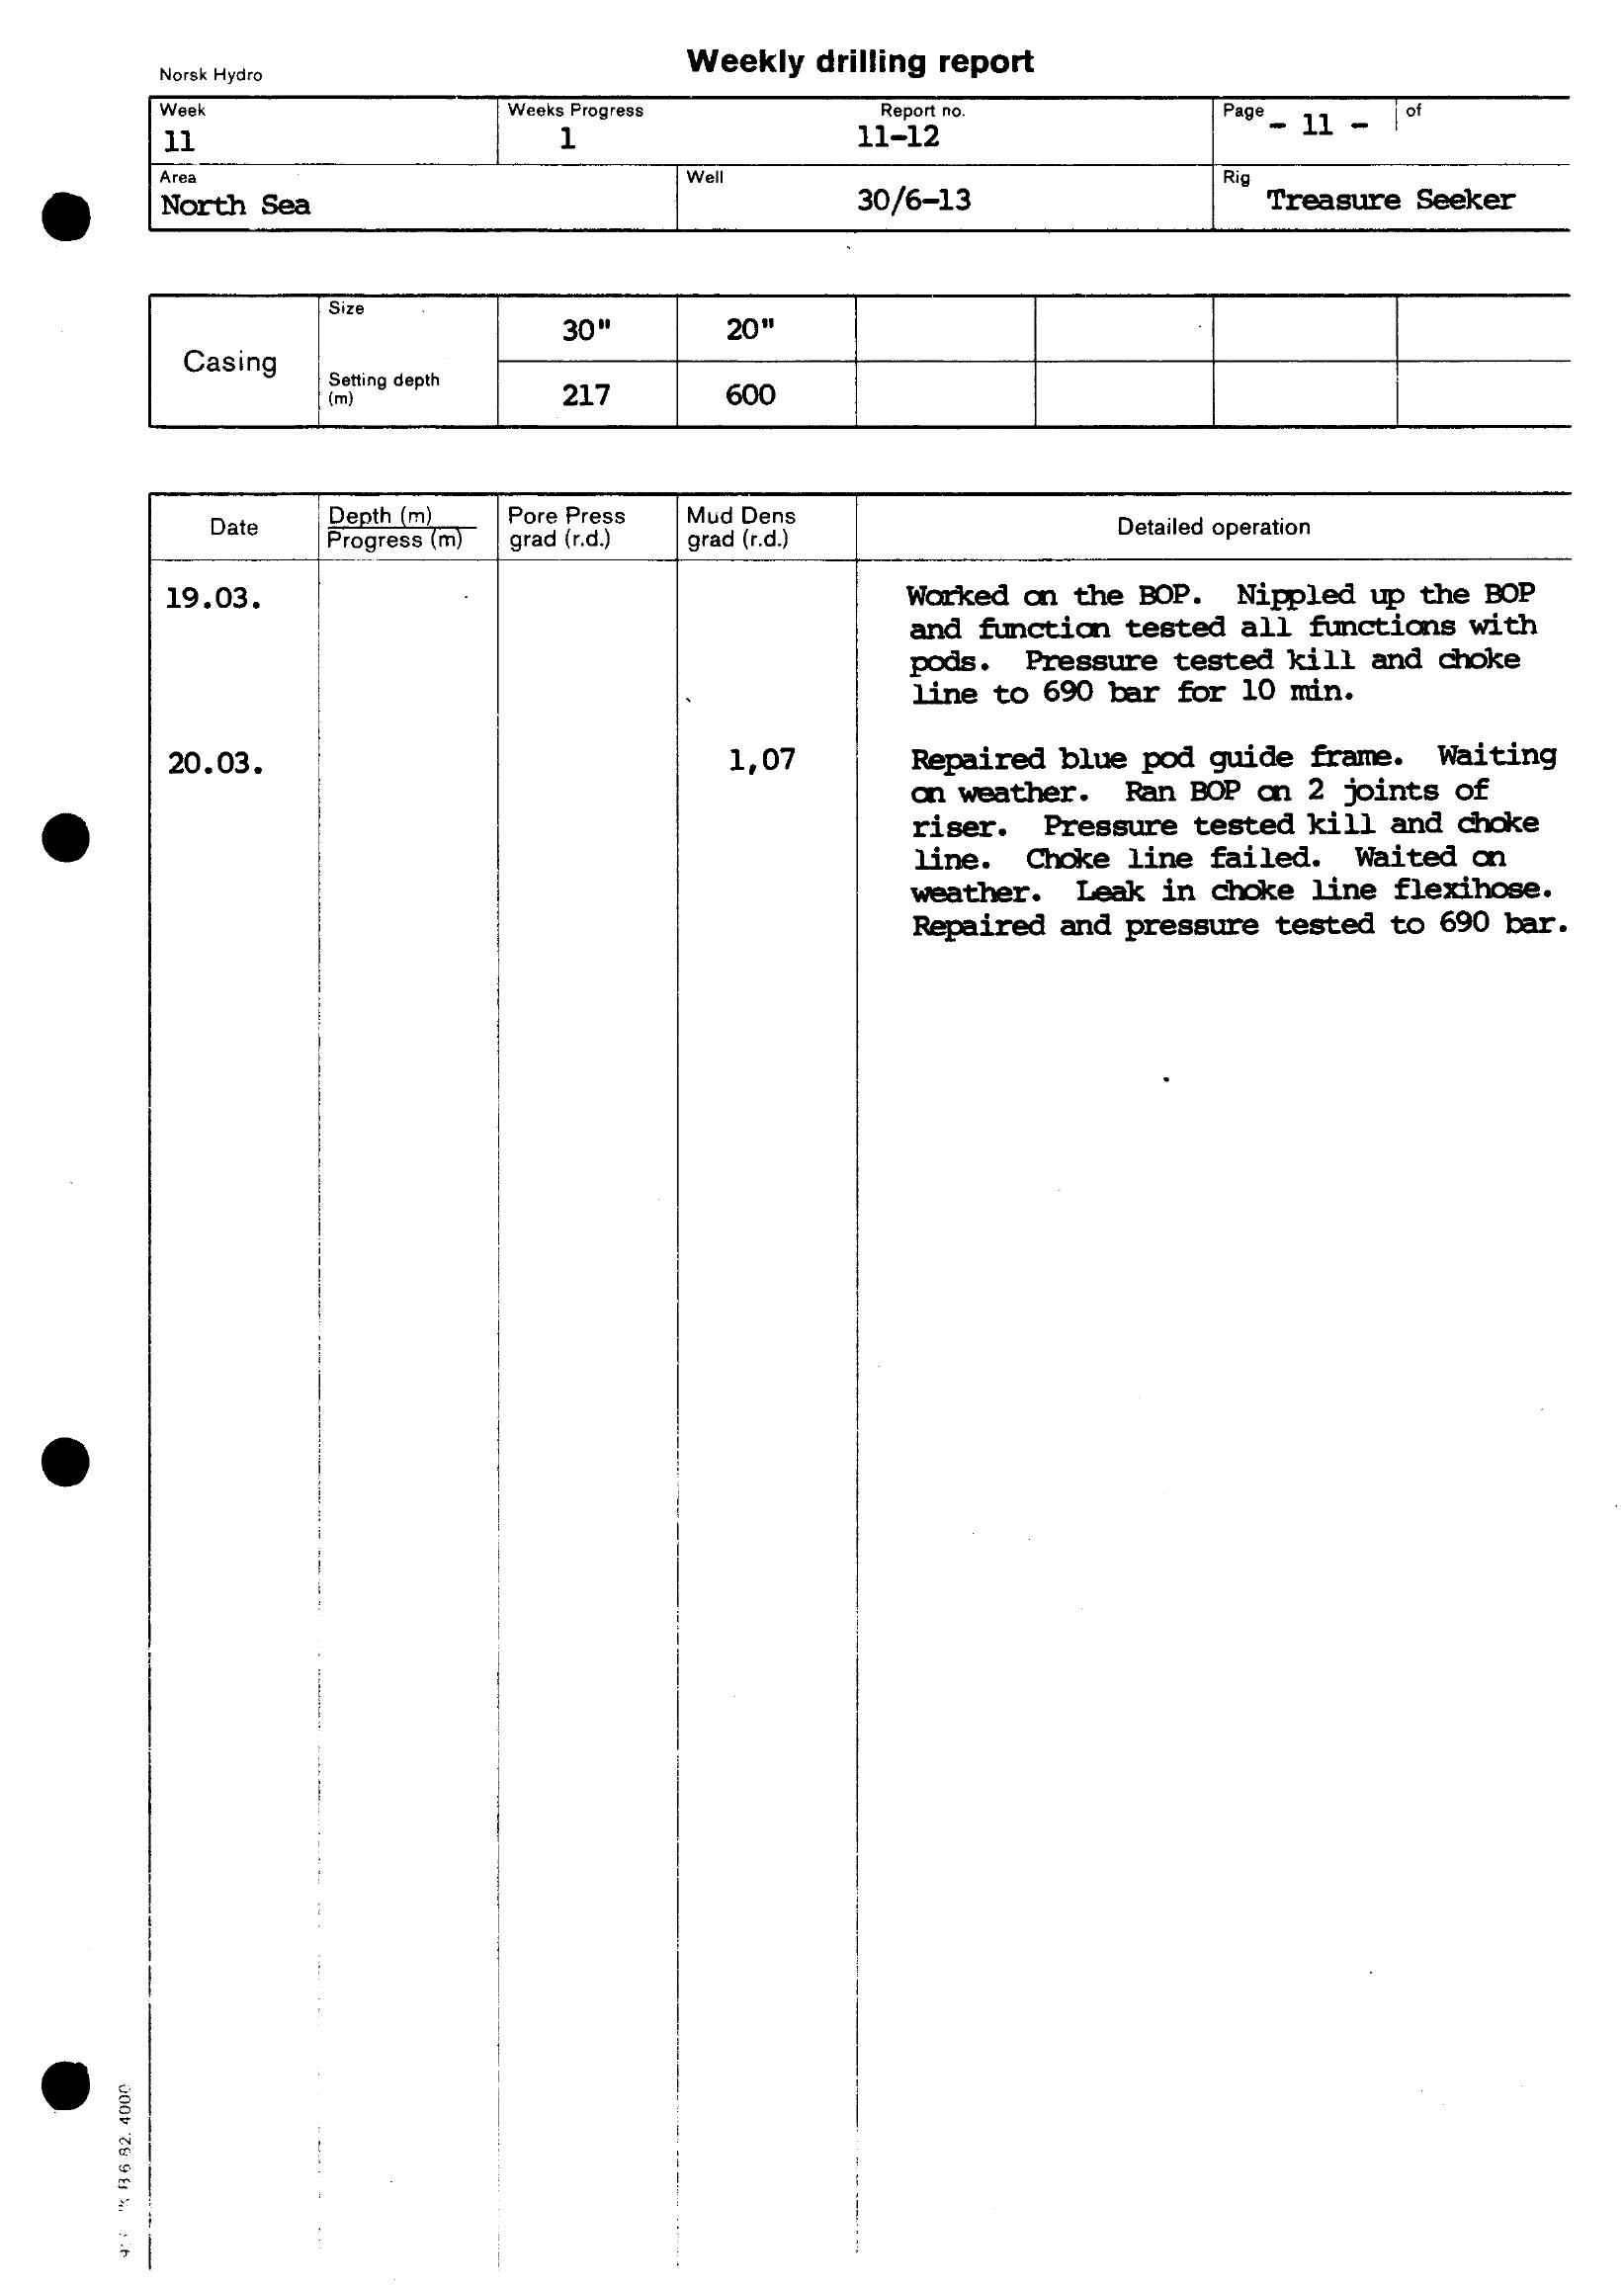graph: (132, 74, 1624, 1009)
text: (633, 26, 1051, 93)
